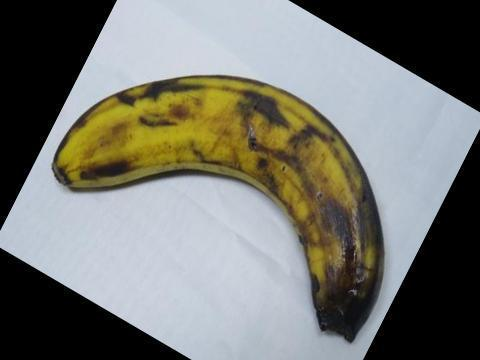overripe: (58, 48, 386, 352)
rotten: (277, 209, 416, 341)
